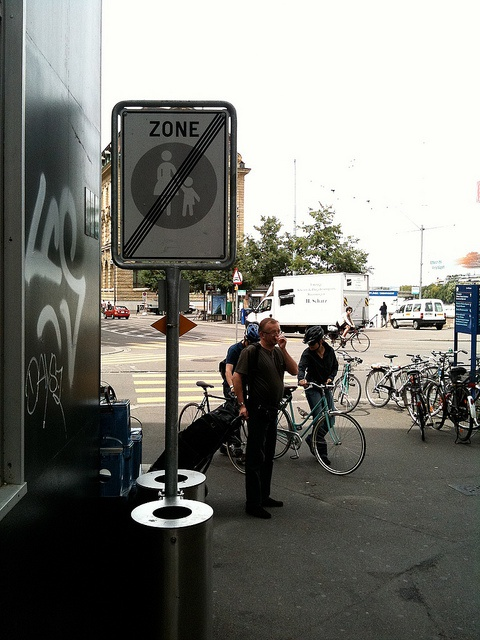non-vehicle: (277, 381, 361, 473), (179, 380, 248, 472), (426, 348, 474, 446), (364, 355, 410, 408), (399, 370, 431, 441), (330, 351, 363, 414), (326, 325, 371, 353), (417, 366, 441, 399), (402, 354, 437, 371), (462, 371, 479, 401), (472, 392, 480, 428)
